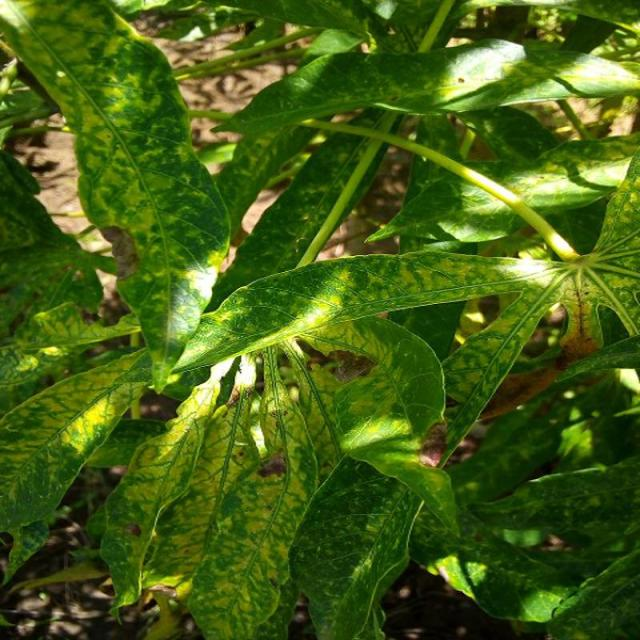Mosaico: (3, 253, 454, 635), (324, 201, 640, 391), (0, 0, 191, 312)
